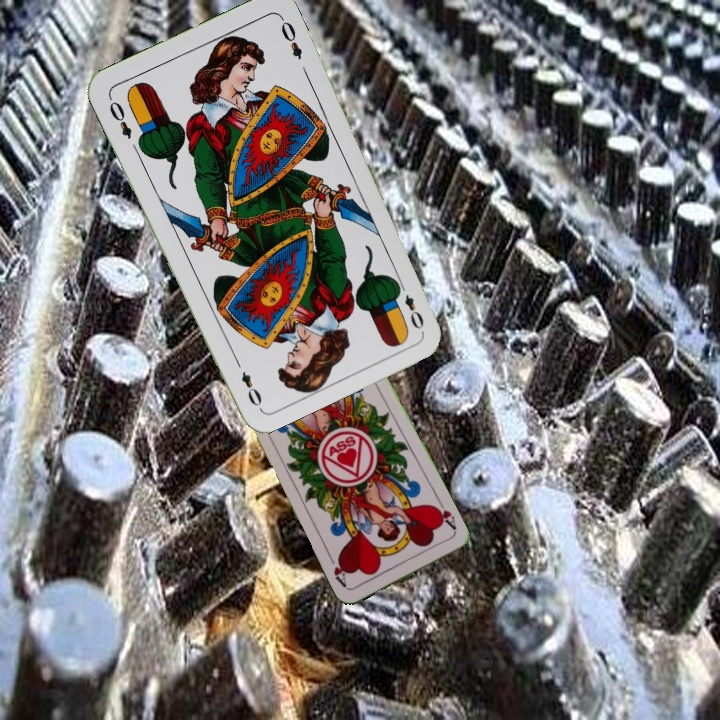EO: (393, 277, 427, 332), (105, 97, 135, 142)
HA: (429, 497, 459, 535)
